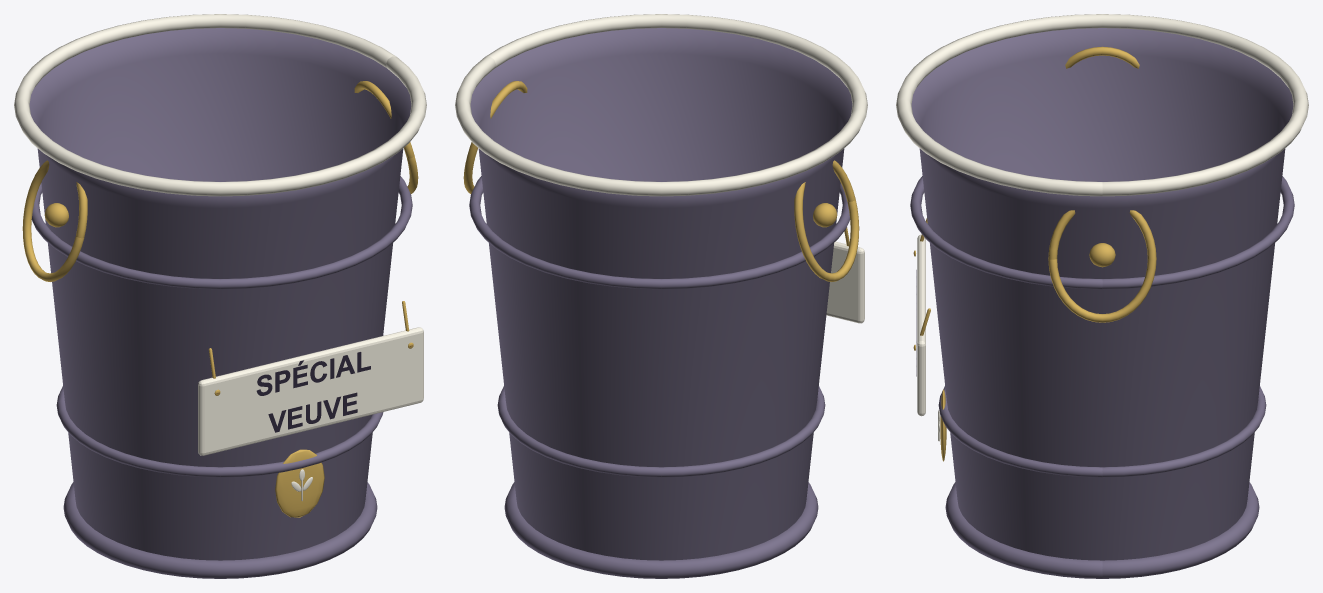
The model's file is bucket_widow.glb.
3 renders of one model, left to right at view 1: azimuth 30°, elevation 25°; view 2: azimuth 150°, elevation 25°; view 3: azimuth 270°, elevation 25°, orthographic.
Visible parts, largest first — view 1: Open_metal_reservoir, Removable_price_plaque, Rolled_cream_lip, Reinforced_base, Pressed_bucket_rib.001, Pressed_bucket_rib, Label_bold_species, Botanical_enamel_crest, Side_ring_handle, Side_ring_handle.001; view 2: Open_metal_reservoir, Rolled_cream_lip, Reinforced_base, Pressed_bucket_rib.001, Pressed_bucket_rib, Removable_price_plaque, Side_ring_handle, Side_ring_handle.001; view 3: Open_metal_reservoir, Rolled_cream_lip, Reinforced_base, Pressed_bucket_rib.001, Pressed_bucket_rib, Side_ring_handle.001, Removable_price_plaque, Side_ring_handle.
Boxes of the visible parts, left/top/right/bottom form: Open_metal_reservoir: left=29, top=28, right=411, bottom=560; Removable_price_plaque: left=198, top=327, right=423, bottom=455; Rolled_cream_lip: left=14, top=14, right=426, bottom=196; Reinforced_base: left=63, top=482, right=377, bottom=578; Pressed_bucket_rib.001: left=31, top=176, right=412, bottom=289; Pressed_bucket_rib: left=56, top=386, right=383, bottom=477; Label_bold_species: left=256, top=352, right=370, bottom=432; Botanical_enamel_crest: left=275, top=449, right=324, bottom=517; Side_ring_handle: left=22, top=160, right=87, bottom=281; Side_ring_handle.001: left=354, top=81, right=418, bottom=193; Open_metal_reservoir: left=470, top=28, right=852, bottom=560; Rolled_cream_lip: left=455, top=14, right=867, bottom=196; Reinforced_base: left=504, top=482, right=818, bottom=578; Pressed_bucket_rib.001: left=469, top=176, right=850, bottom=289; Pressed_bucket_rib: left=497, top=386, right=825, bottom=477; Removable_price_plaque: left=826, top=241, right=864, bottom=323; Side_ring_handle: left=794, top=160, right=859, bottom=281; Side_ring_handle.001: left=463, top=81, right=527, bottom=193; Open_metal_reservoir: left=911, top=28, right=1293, bottom=560; Rolled_cream_lip: left=896, top=14, right=1308, bottom=196; Reinforced_base: left=945, top=482, right=1259, bottom=578; Pressed_bucket_rib.001: left=910, top=176, right=1294, bottom=289; Pressed_bucket_rib: left=938, top=386, right=1266, bottom=477; Side_ring_handle.001: left=1048, top=210, right=1156, bottom=322; Removable_price_plaque: left=917, top=234, right=925, bottom=416; Side_ring_handle: left=1065, top=46, right=1139, bottom=68.
Bounding box in the file's own units: 0.3814 × 0.427 × 0.374.
